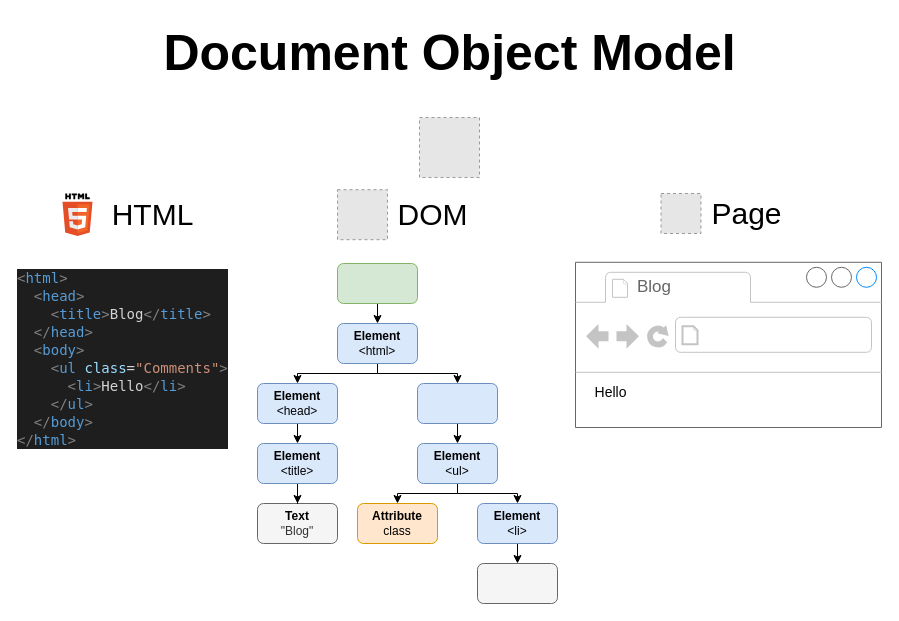
This 899x621 diagram has some shape labels left out. Grey dashed boxes stand in for pictures. The centre of each missing label's shape, as x and y in pixels:
Document: pixel 377 283
Element <body>: pixel 457 403
https://www.blog.com: pixel 790 334
Text "Hello": pixel 517 583
